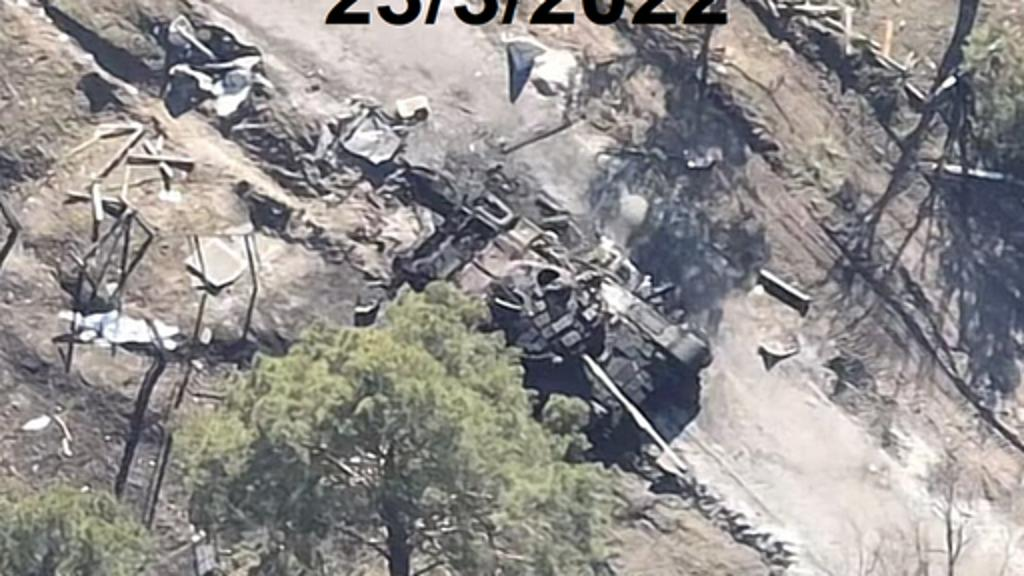TANK: (398, 192, 716, 492)
